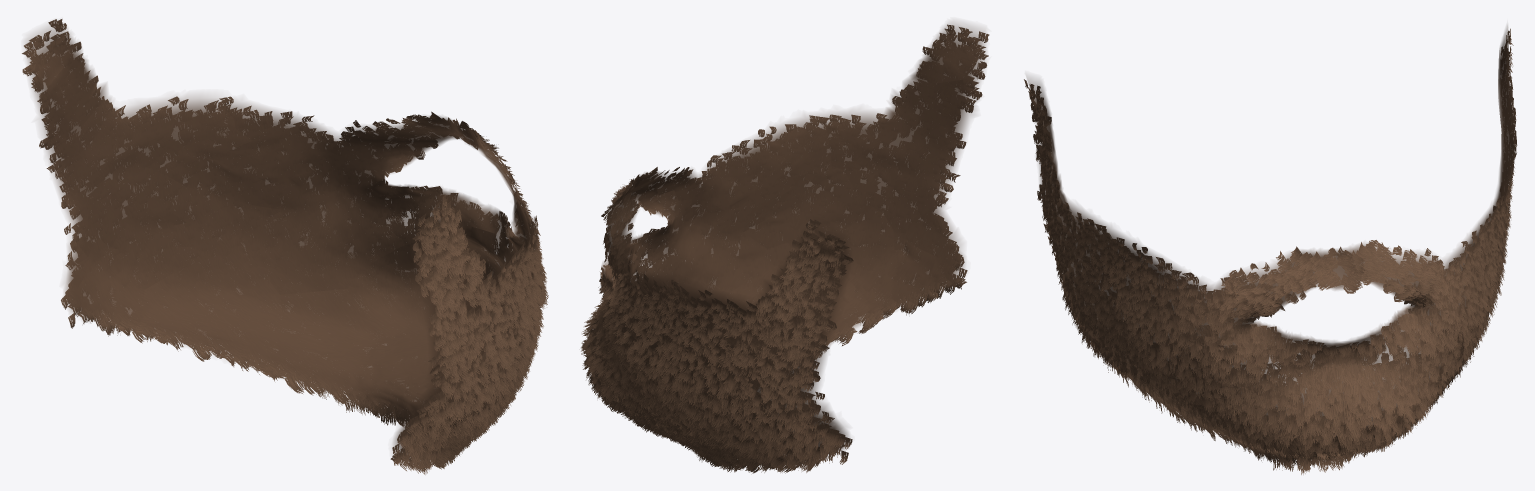
File: beard-m3-boxed.glb
The picture shows the model from 3 angles, left to right: view 1: azimuth 30°, elevation 25°; view 2: azimuth 150°, elevation 25°; view 3: azimuth 270°, elevation 25°; orthographic projection. The views are drawn at different scales.
Visible parts, largest first — view 1: Beard_m3_boxed_root, Beard_m3_boxed_cards; view 2: Beard_m3_boxed_root, Beard_m3_boxed_cards; view 3: Beard_m3_boxed_cards, Beard_m3_boxed_root.
Part boxes in pixels (x1=…): Beard_m3_boxed_root: x1=25, y1=23, x2=534, y2=450; Beard_m3_boxed_cards: x1=22, y1=19, x2=548, y2=474; Beard_m3_boxed_root: x1=591, y1=22, x2=985, y2=459; Beard_m3_boxed_cards: x1=581, y1=24, x2=989, y2=473; Beard_m3_boxed_cards: x1=1024, y1=28, x2=1517, y2=474; Beard_m3_boxed_root: x1=1026, y1=25, x2=1514, y2=445.
Size of the model in its own units: 0.1347 by 0.1284 by 0.1659.
Materials: 2 (1 with a texture image).
